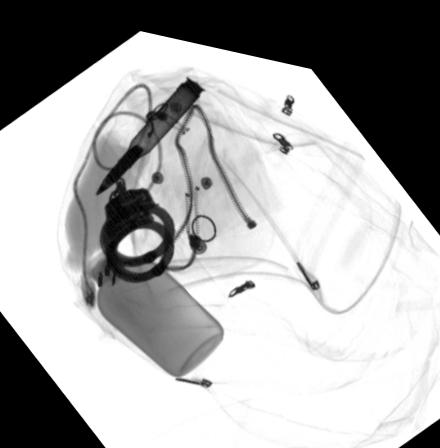Bullet: (94, 65, 207, 190)
HandCuffs: (97, 167, 175, 276)
